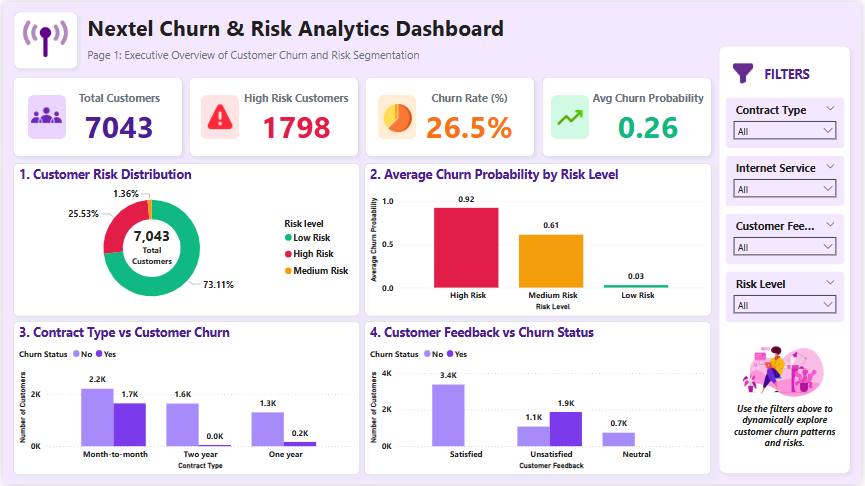

The page's visual inventory and layout, read from the dashboard file:
{"tool":"powerbi","page":{"name":"Page 1","canvas":[1280,720],"ordinal":0},"visuals":[{"type":"textbox","box":[121,10.1,633.3,63.6],"z":0},{"type":"textbox","box":[121,62.2,510.4,31.8],"z":1000},{"type":"textbox","box":[177.5,356,89.2,44.8],"z":1000,"group":"g2"},{"type":"textbox","box":[176.9,328.5,89.2,40.5],"z":1500,"group":"g2"},{"type":"shape","box":[8.7,7.2,109.9,99.8],"z":2000},{"type":"shape","box":[1061.2,57.8,211.1,653],"z":3000},{"type":"textbox","box":[1131.3,89.6,77.6,41.8],"z":4000},{"type":"textbox","box":[1081.4,592.8,169.2,78.1],"z":5000},{"type":"shape","box":[7.2,105.1,268.9,134.5],"z":6000},{"type":"card","title":"Total Customers","fields":{"Values":["telecom_churn vw_avg_churn_probability_by_risk.kpi_total_customers"]},"box":[94.8,132.6,159,81],"z":7000},{"type":"shape","box":[270.4,105.1,268.9,134.5],"z":8000},{"type":"shape","box":[533.5,105.1,268.9,134.5],"z":9000},{"type":"card","title":"High Risk Customers","fields":{"Values":["telecom_churn vw_avg_churn_probability_by_risk.kpi_high_risk_customers"]},"box":[352.1,132.6,170.6,81],"z":10000},{"type":"shape","box":[796.6,105.1,268.9,134.5],"z":11000},{"type":"card","title":"Avg Churn Probability","fields":{"Values":["telecom_churn vw_avg_churn_probability_by_risk.kpi_avg_churn_probability"]},"box":[874,132.6,176.4,81],"z":12000},{"type":"donutChart","title":"1. Customer Risk Distribution","fields":{"Category":["telecom_churn vw_base_telco_churn.Risk_Level"],"Y":["CountNonNull(telecom_churn vw_base_telco_churn.Customer_ID)"]},"box":[14.9,240.3,518,229],"z":12000,"group":"g1"},{"type":"card","title":"Churn Rate (%)","fields":{"Values":["telecom_churn vw_avg_churn_probability_by_risk.kpi_churn_rate"]},"box":[608,132.6,177.8,81],"z":13000},{"type":"clusteredColumnChart","title":"2. Average Churn Probability by Risk Level","fields":{"Category":["telecom_churn vw_base_telco_churn.Risk_Level"],"Y":["Avg(telecom_churn vw_base_telco_churn.Churn_Probability)"]},"box":[539.3,240,519,229],"z":14000},{"type":"clusteredColumnChart","title":"4. Customer Feedback vs Churn Status","fields":{"Category":["telecom_churn vw_base_telco_churn.Customer_Feedback"],"Y":["CountNonNull(telecom_churn vw_base_telco_churn.Customer_ID)"],"Series":["telecom_churn vw_base_telco_churn.Churn_Status"]},"box":[539.3,475.7,517.6,229.9],"z":15000},{"type":"group","id":"g1","title":"Group 2","box":[14.9,240.3,518,229],"z":16000},{"type":"clusteredColumnChart","title":"3. Contract Type vs Customer Churn","fields":{"Category":["telecom_churn vw_base_telco_churn.Contract"],"Y":["CountNonNull(telecom_churn vw_base_telco_churn.Customer_ID)"],"Series":["telecom_churn vw_base_telco_churn.Churn_Status"]},"box":[14.5,475.7,517.6,229.9],"z":17000},{"type":"image","box":[26.9,7.5,73.1,95.5],"z":18000},{"type":"shape","box":[817.9,138.8,56.7,65.7],"z":19000},{"type":"group","id":"g2","title":"Group 1","box":[176.9,328.5,89.2,72.3],"z":19001,"group":"g1"},{"type":"shape","box":[295.5,138.8,56.7,65.7],"z":20000},{"type":"shape","box":[559.7,138.8,56.7,65.7],"z":21000},{"type":"shape","box":[37.3,138.8,56.7,65.7],"z":22000},{"type":"image","box":[41.8,132.8,46.3,71.6],"z":23000},{"type":"image","box":[304.5,147.8,38.8,46.3],"z":24000},{"type":"image","box":[567.2,152.2,44.8,41.8],"z":25000},{"type":"image","box":[823.9,143.3,44.8,58.2],"z":26000},{"type":"image","box":[1089.6,86.6,29.9,40.3],"z":27000},{"type":"image","box":[1100,488.1,129.9,126.9],"z":28000},{"type":"slicer","fields":{"Values":["telecom_churn vw_base_telco_churn.Contract"]},"box":[1077.1,141.7,179.3,76.6],"z":29000},{"type":"slicer","fields":{"Values":["telecom_churn vw_base_telco_churn.Internet_Service"]},"box":[1077.1,228.4,179.3,76.6],"z":30000},{"type":"slicer","fields":{"Values":["telecom_churn vw_base_telco_churn.Customer_Feedback"]},"box":[1077.1,315.2,179.3,76.6],"z":31000},{"type":"slicer","fields":{"Values":["telecom_churn vw_base_telco_churn.Risk_Level"]},"box":[1077.1,401.9,179.3,76.6],"z":32000}]}

Visuals, with their boxes in screenshot pixels (x1, y1, x2, y2), scaled from the page's 1280x720 canvas onto the 865x486 screenshot:
textbox: <box>82,7,510,50</box>
textbox: <box>82,42,427,63</box>
textbox: <box>120,240,180,271</box>
textbox: <box>120,222,180,249</box>
shape: <box>6,5,80,72</box>
shape: <box>717,39,860,480</box>
textbox: <box>765,60,817,89</box>
textbox: <box>731,400,845,453</box>
shape: <box>5,71,187,162</box>
"Total Customers" card: <box>64,90,172,144</box>
shape: <box>183,71,364,162</box>
shape: <box>361,71,542,162</box>
"High Risk Customers" card: <box>238,90,353,144</box>
shape: <box>538,71,720,162</box>
"Avg Churn Probability" card: <box>591,90,710,144</box>
"1. Customer Risk Distribution" donutChart: <box>10,162,360,317</box>
"Churn Rate (%)" card: <box>411,90,531,144</box>
"2. Average Churn Probability by Risk Level" clusteredColumnChart: <box>364,162,715,317</box>
"4. Customer Feedback vs Churn Status" clusteredColumnChart: <box>364,321,714,476</box>
"Group 2" group: <box>10,162,360,317</box>
"3. Contract Type vs Customer Churn" clusteredColumnChart: <box>10,321,360,476</box>
image: <box>18,5,68,70</box>
shape: <box>553,94,591,138</box>
"Group 1" group: <box>120,222,180,271</box>
shape: <box>200,94,238,138</box>
shape: <box>378,94,417,138</box>
shape: <box>25,94,64,138</box>
image: <box>28,90,60,138</box>
image: <box>206,100,232,131</box>
image: <box>383,103,414,131</box>
image: <box>557,97,587,136</box>
image: <box>736,58,757,86</box>
image: <box>743,329,831,415</box>
slicer - telecom_churn vw_base_telco_churn.Contract: <box>728,96,849,147</box>
slicer - telecom_churn vw_base_telco_churn.Internet_Service: <box>728,154,849,206</box>
slicer - telecom_churn vw_base_telco_churn.Customer_Feedback: <box>728,213,849,264</box>
slicer - telecom_churn vw_base_telco_churn.Risk_Level: <box>728,271,849,323</box>
